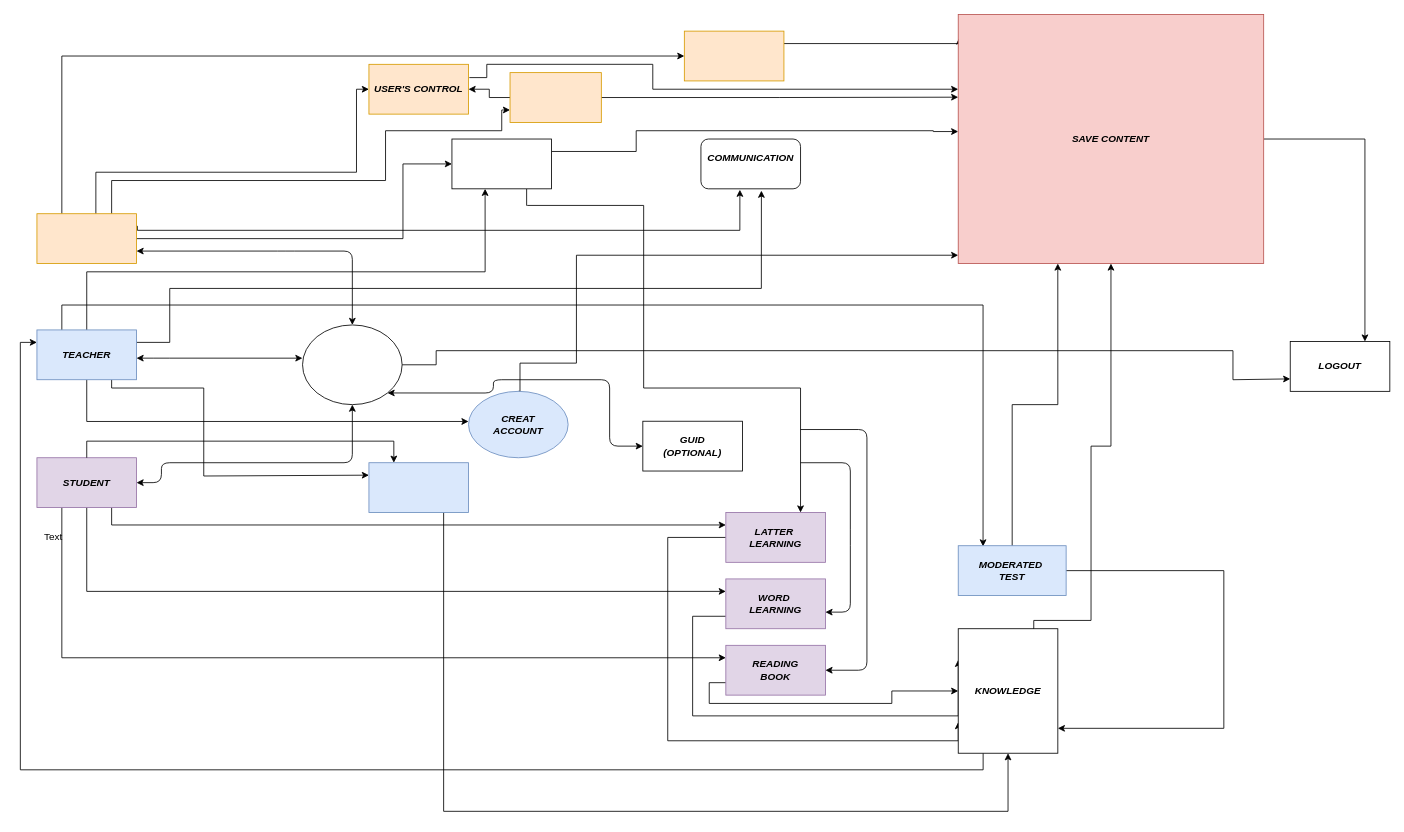
Some shapes in this 1404 by 832 pixel diagram are drawn without their labels. Here are the shapes that lost their labels. From the top down, the centre of each, then its label:
At pixel 734 55: "DATA SETTINGS".
At pixel 555 97: "DATABASE".
At pixel 501 163: "CONTENT".
At pixel 86 238: "ADMIN".
At pixel 352 364: "LOGIN".
At pixel 418 487: "PREVIREW TEST FOR STUDENT".
